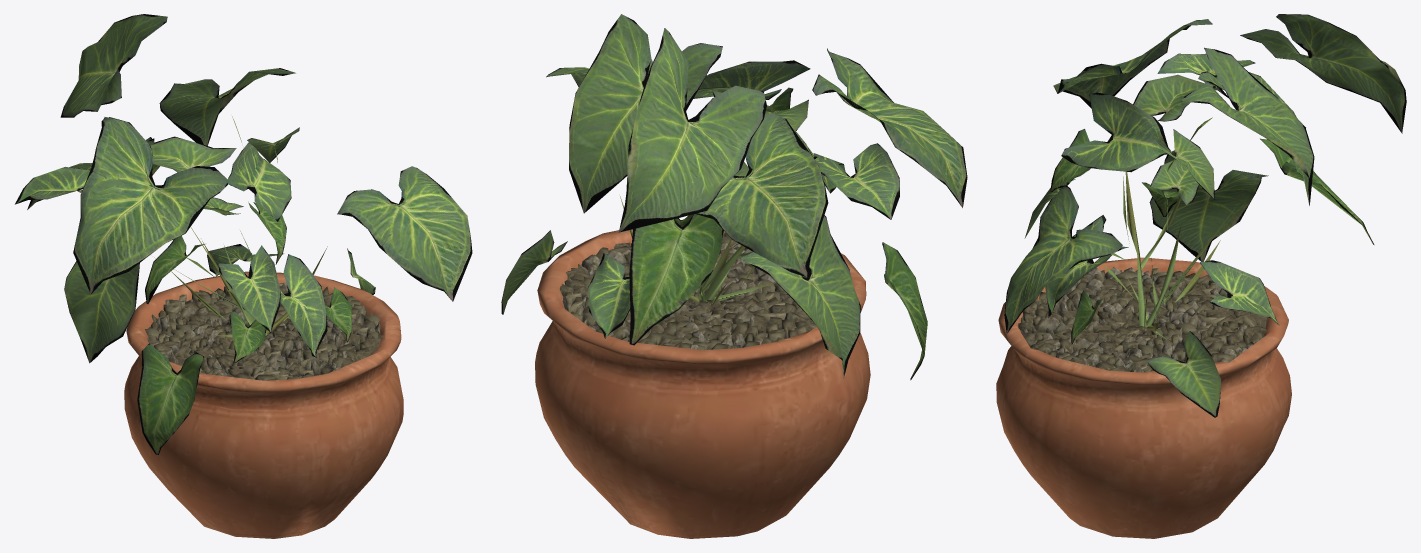
File: potted_plant_02.glb
The picture shows the model from 3 angles, left to right: view 1: azimuth 30°, elevation 25°; view 2: azimuth 150°, elevation 25°; view 3: azimuth 270°, elevation 25°; orthographic projection. The views are drawn at different scales.
Visible parts, largest first — view 1: potted_plant_02_leaves, potted_plant_02_pot; view 2: potted_plant_02_leaves, potted_plant_02_pot; view 3: potted_plant_02_pot, potted_plant_02_leaves.
Boxes of the visible parts, x1,y1,x2,y2 form: potted_plant_02_leaves: (15, 14, 472, 454); potted_plant_02_pot: (124, 271, 403, 538); potted_plant_02_leaves: (501, 14, 967, 380); potted_plant_02_pot: (535, 220, 870, 538); potted_plant_02_pot: (996, 257, 1291, 538); potted_plant_02_leaves: (1004, 14, 1406, 417).
Bounding box in the file's own units: 0.7009 × 0.8395 × 0.6561.
Materials: 2 (2 with a texture image).
